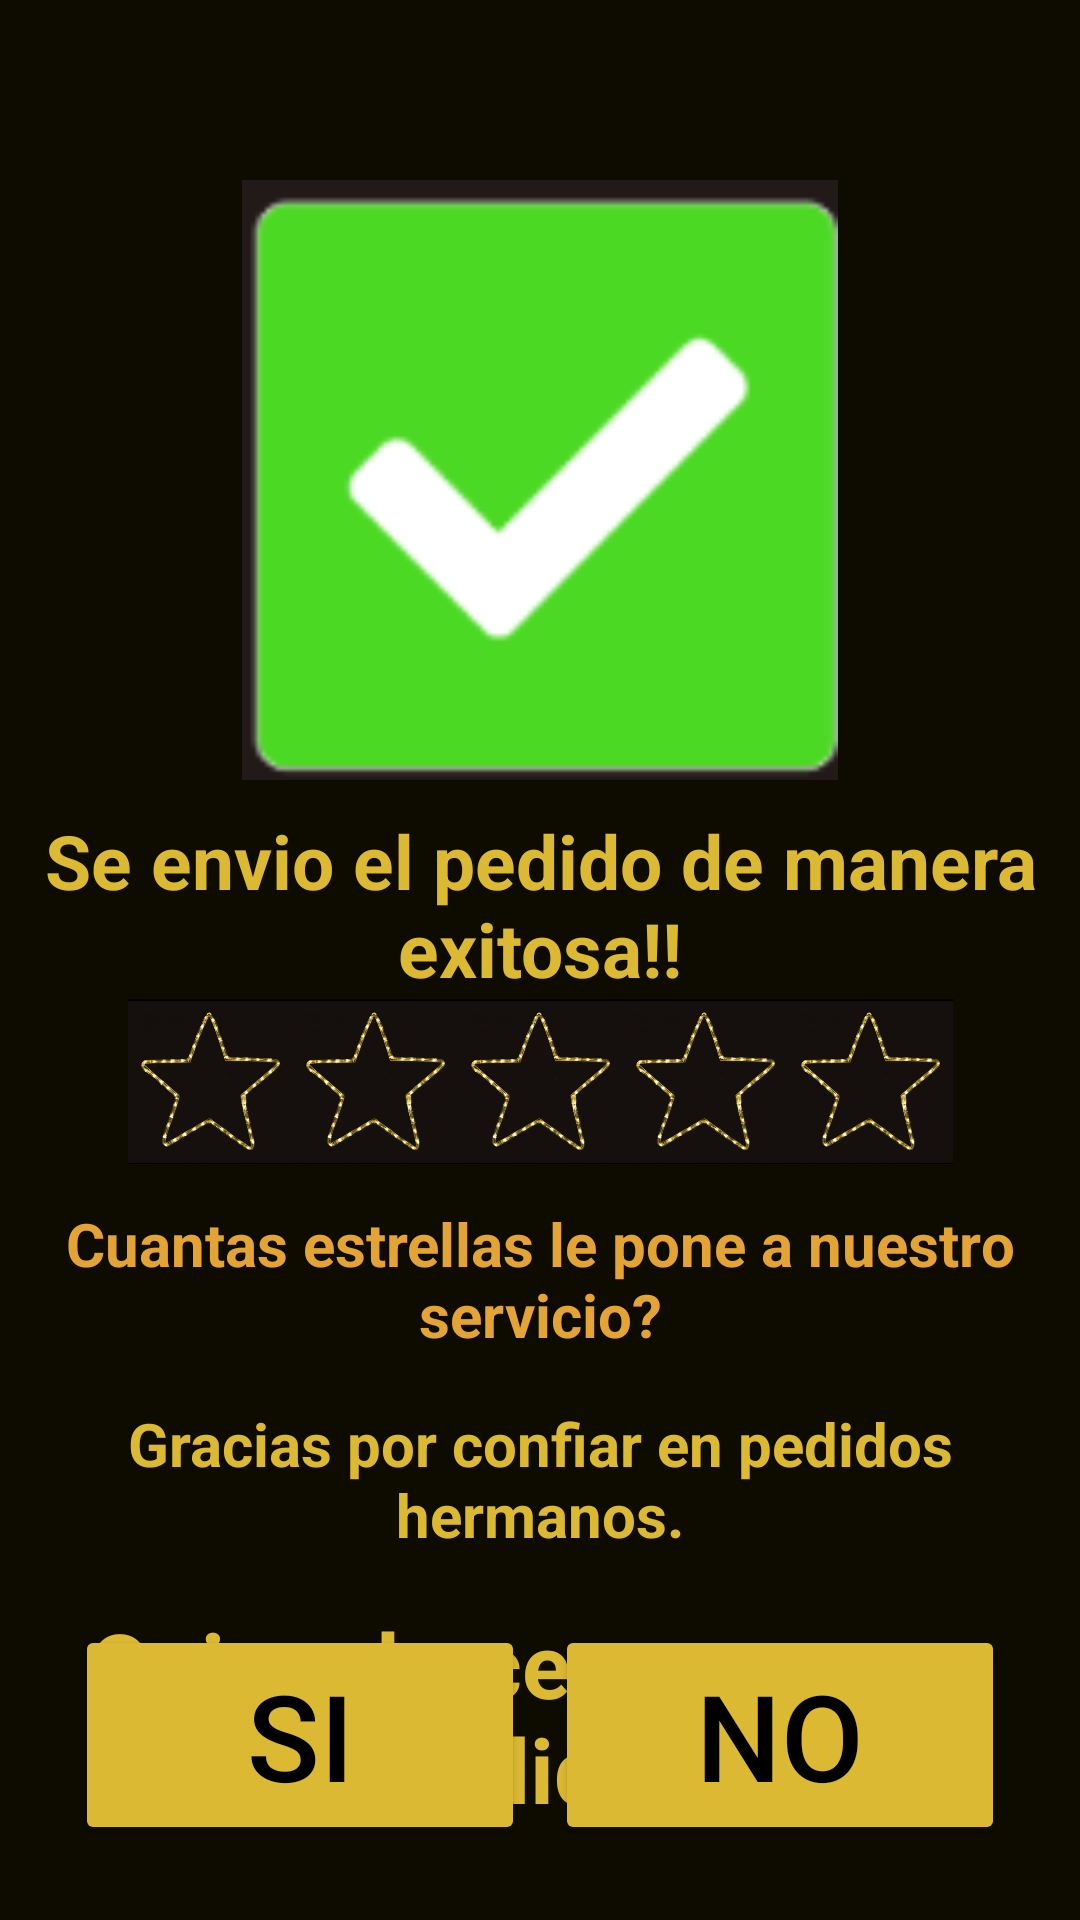

Icon click points for this 1080 × 1920 phone screenshot, format (x=x, y=y):
star view: (x=210, y=1081), (x=375, y=1081), (x=540, y=1081), (x=705, y=1081), (x=870, y=1081)
